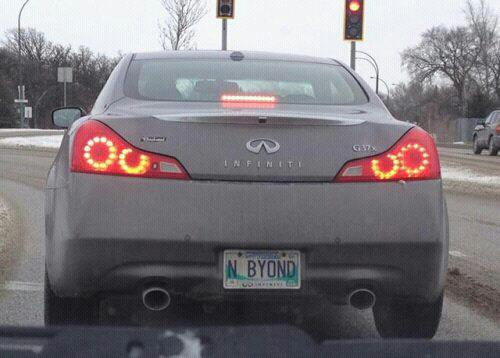license plate: (221, 248, 303, 291)
